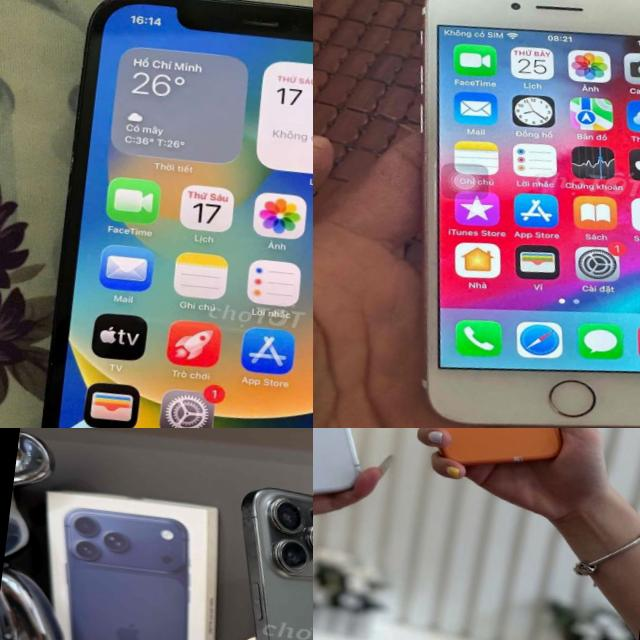gen_12_13: (7, 0, 313, 428)
gen_15: (200, 469, 313, 640)
gen_17: (382, 428, 589, 479)
gen_7_8: (365, 0, 640, 428)
scratch: (234, 498, 265, 558)
